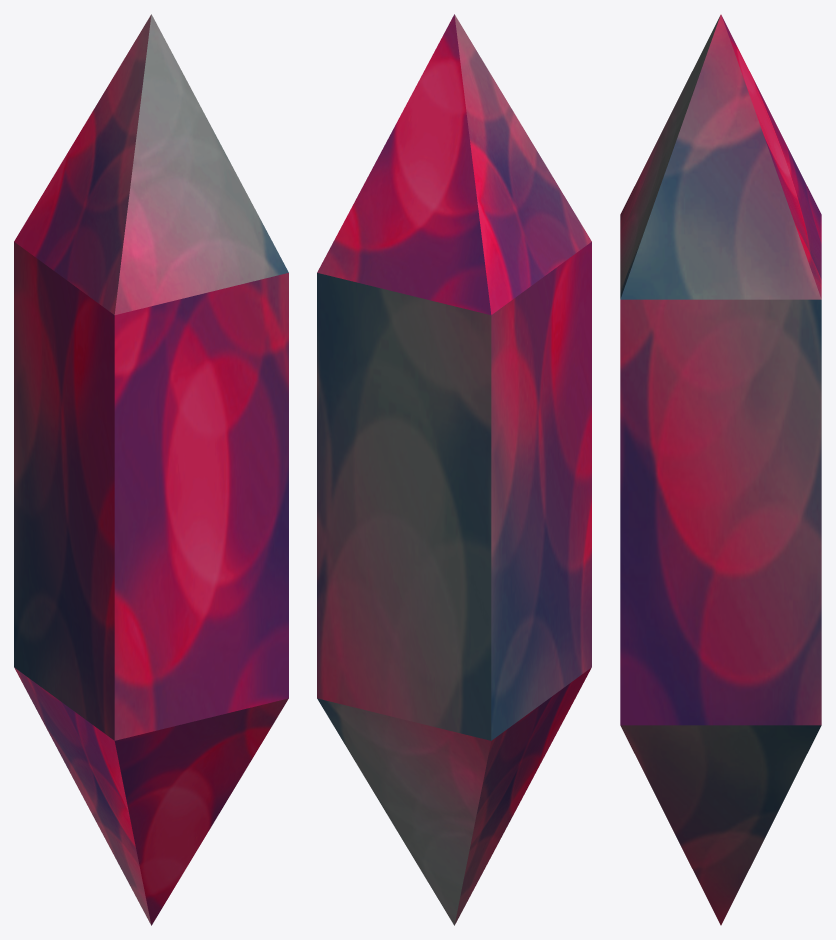
Rendered from energy_stone_legend.obj.
3 renders of one model, left to right at view 1: azimuth 30°, elevation 25°; view 2: azimuth 150°, elevation 25°; view 3: azimuth 270°, elevation 25°, orthographic.
Visible parts, largest first — view 1: Cube, Pyramid; view 2: Cube, Pyramid; view 3: Cube, Pyramid.
Part boxes in pixels (<box>): Cube: <box>14,242,288,740</box>; Pyramid: <box>14,14,288,925</box>; Cube: <box>317,242,591,740</box>; Pyramid: <box>317,14,591,925</box>; Cube: <box>620,299,821,725</box>; Pyramid: <box>620,14,821,925</box>.
Bounding box in the file's own units: 3 × 15 × 3.
